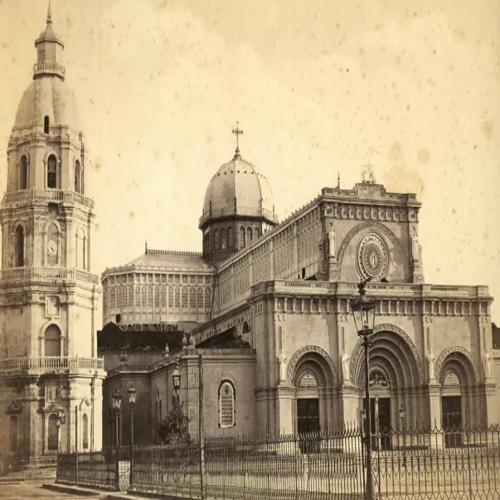Manila Cathedral Church: (3, 1, 495, 479)
